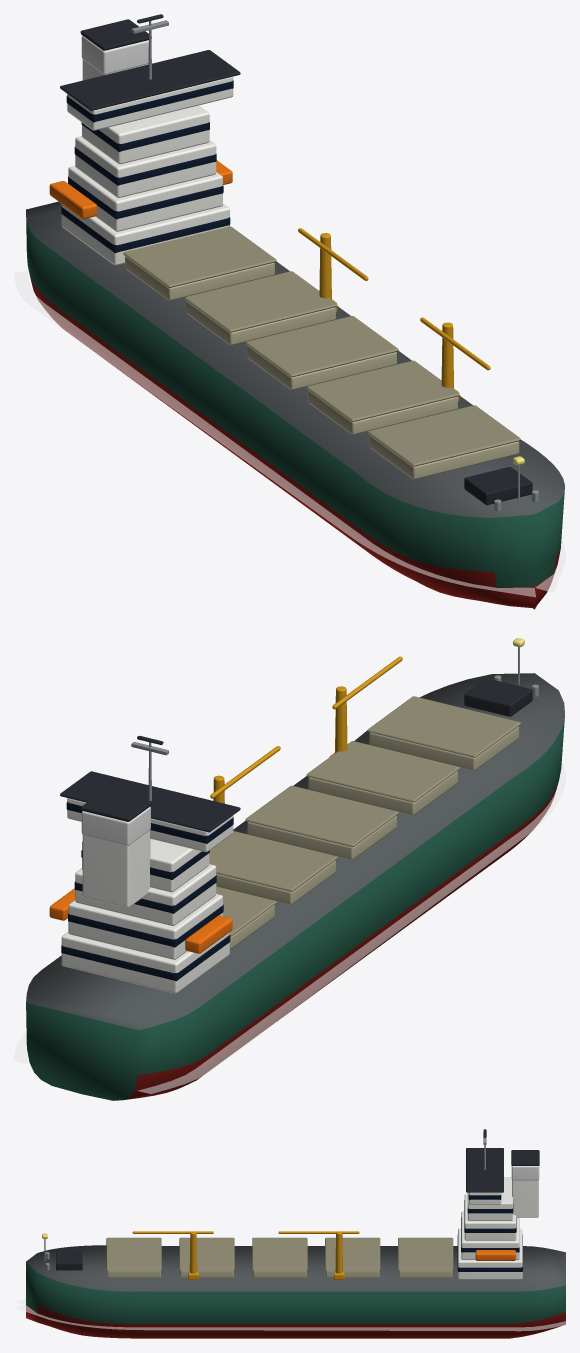
File: ship_bulker.glb
The picture shows the model from 3 angles, top to bottom: view 1: azimuth 30°, elevation 25°; view 2: azimuth 150°, elevation 25°; view 3: azimuth 270°, elevation 25°; orthographic projection. The views are drawn at different scales.
Visible parts, largest first — view 1: Rumpf, Teil_Luke_dunkel, Teil_Aufbau_Weiss, Teil_Luke, Teil_Dunkel, Teil_Fenster, Foam, Teil_Gelb, Teil_Schornstein, Teil_Rettungsboot; view 2: Rumpf, Teil_Luke_dunkel, Teil_Aufbau_Weiss, Teil_Luke, Teil_Dunkel, Foam, Teil_Fenster, Teil_Gelb, Teil_Schornstein, Teil_Rettungsboot, Teil_Stahl; view 3: Rumpf, Teil_Luke_dunkel, Teil_Aufbau_Weiss, Teil_Dunkel, Teil_Luke, Foam, Teil_Fenster, Teil_Gelb, Teil_Rettungsboot, Teil_Schornstein.
Part boxes in pixels (x1,y1,x2,y2): Rumpf: [26, 201, 564, 609]; Teil_Luke_dunkel: [123, 226, 520, 466]; Teil_Aufbau_Weiss: [61, 59, 233, 265]; Teil_Luke: [125, 256, 519, 479]; Teil_Dunkel: [60, 14, 532, 505]; Teil_Fenster: [61, 80, 233, 253]; Foam: [14, 270, 565, 597]; Teil_Gelb: [298, 228, 490, 401]; Teil_Schornstein: [81, 35, 148, 74]; Teil_Rettungsboot: [49, 160, 232, 218]; Rumpf: [26, 673, 564, 1100]; Teil_Luke_dunkel: [209, 696, 520, 936]; Teil_Aufbau_Weiss: [61, 798, 233, 993]; Teil_Luke: [216, 726, 519, 949]; Teil_Dunkel: [60, 678, 532, 832]; Foam: [14, 762, 565, 1093]; Teil_Fenster: [61, 801, 233, 981]; Teil_Gelb: [210, 656, 402, 803]; Teil_Schornstein: [81, 806, 150, 845]; Teil_Rettungsboot: [49, 888, 232, 953]; Teil_Stahl: [131, 647, 538, 800]; Rumpf: [26, 1245, 565, 1338]; Teil_Luke_dunkel: [106, 1237, 453, 1270]; Teil_Aufbau_Weiss: [458, 1177, 538, 1279]; Teil_Dunkel: [56, 1129, 539, 1270]; Teil_Luke: [107, 1270, 452, 1278]; Foam: [15, 1298, 565, 1331]; Teil_Fenster: [457, 1195, 522, 1271]; Teil_Gelb: [132, 1231, 359, 1279]; Teil_Rettungsboot: [475, 1250, 515, 1260]; Teil_Schornstein: [511, 1166, 539, 1180].
Size of the model in its own units: 18.24 by 31.45 by 81.8.
